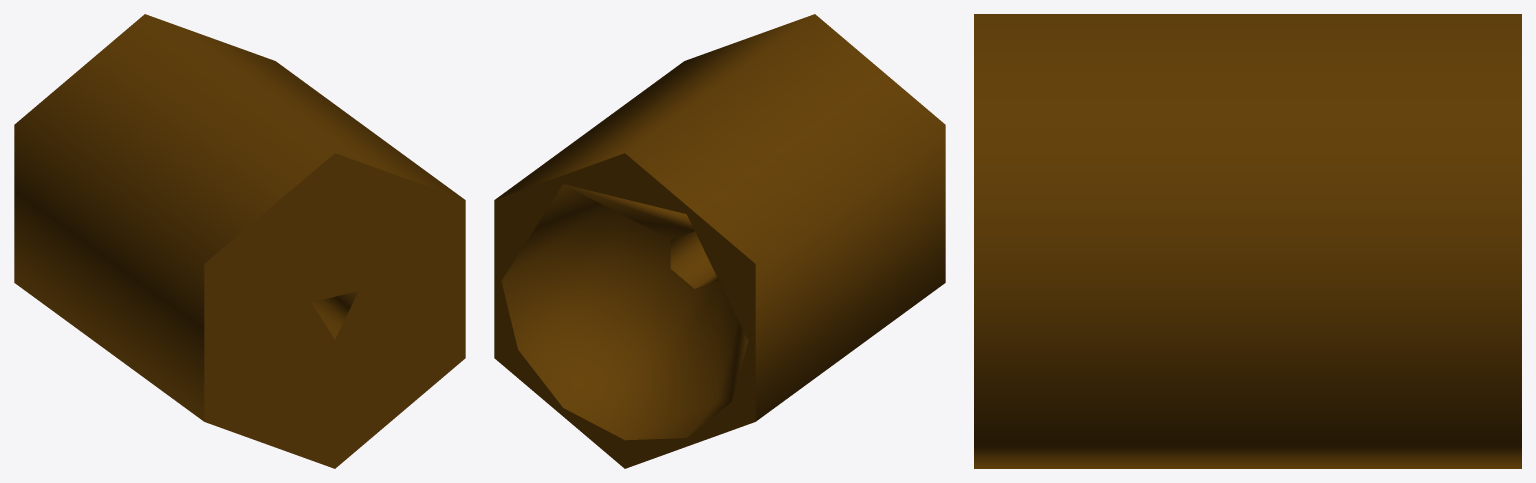
Rendered from Pallier (5.5_1.2)_instance_6.obj.
3 views of the same model, side by side, from view 1: azimuth 30°, elevation 25°; view 2: azimuth 150°, elevation 25°; view 3: azimuth 270°, elevation 25° (orthographic). The views are drawn at different scales.
Visible parts, largest first — view 1: Face_4, Face_1, Face_5; view 2: Face_4, Face_2, Face_3, Face_5; view 3: Face_4.
Boxes of the visible parts, x1,y1,x2,y2 form: Face_4: (14,14,464,421); Face_1: (204,153,465,468); Face_5: (311,291,358,339); Face_4: (495,14,945,421); Face_2: (501,184,748,440); Face_3: (494,153,755,468); Face_5: (670,231,718,288); Face_4: (974,14,1521,468).
Size of the model in its own units: 0.00476 by 0.0055 by 0.006.
